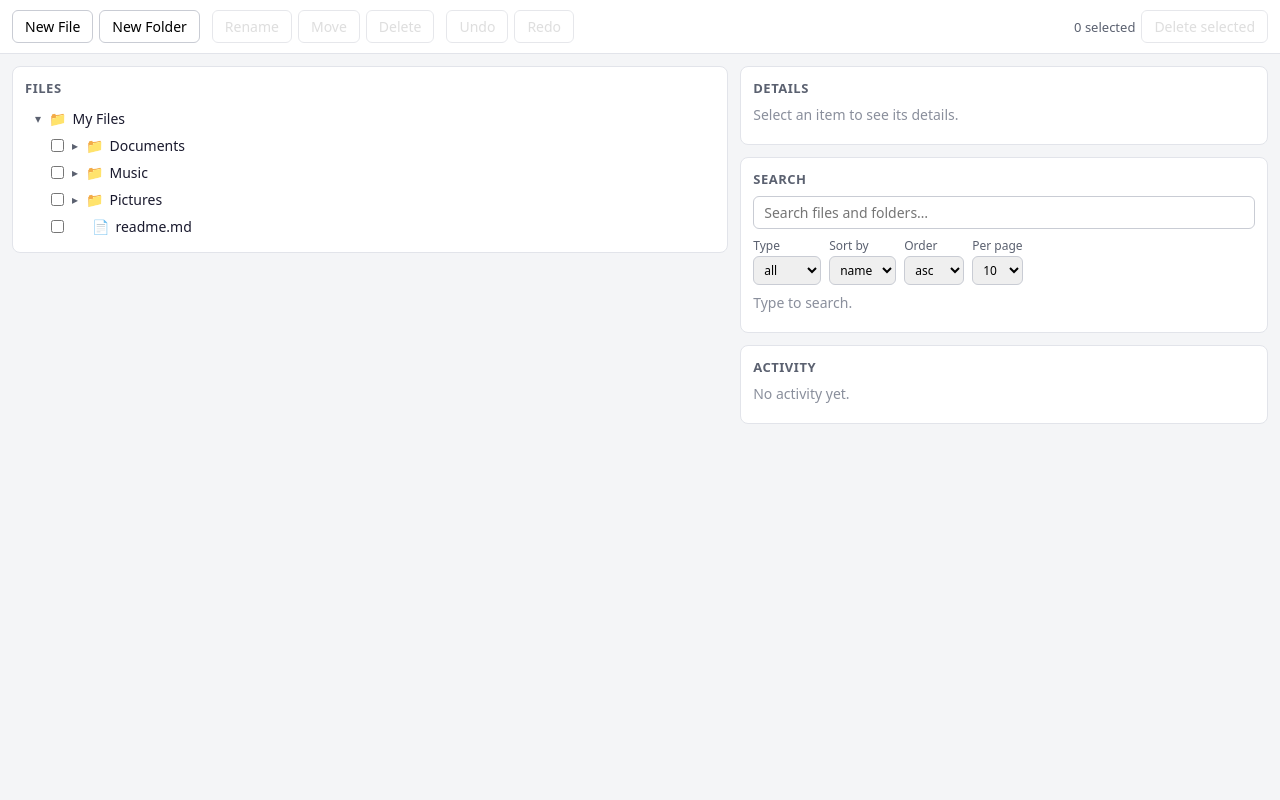
it: selection consistency › clears selection when a parent of the selected item is deleted
This screenshot has width=1280, height=800.
Click the button named "Expand Documents" at (75, 146), box [70,137,80,154]
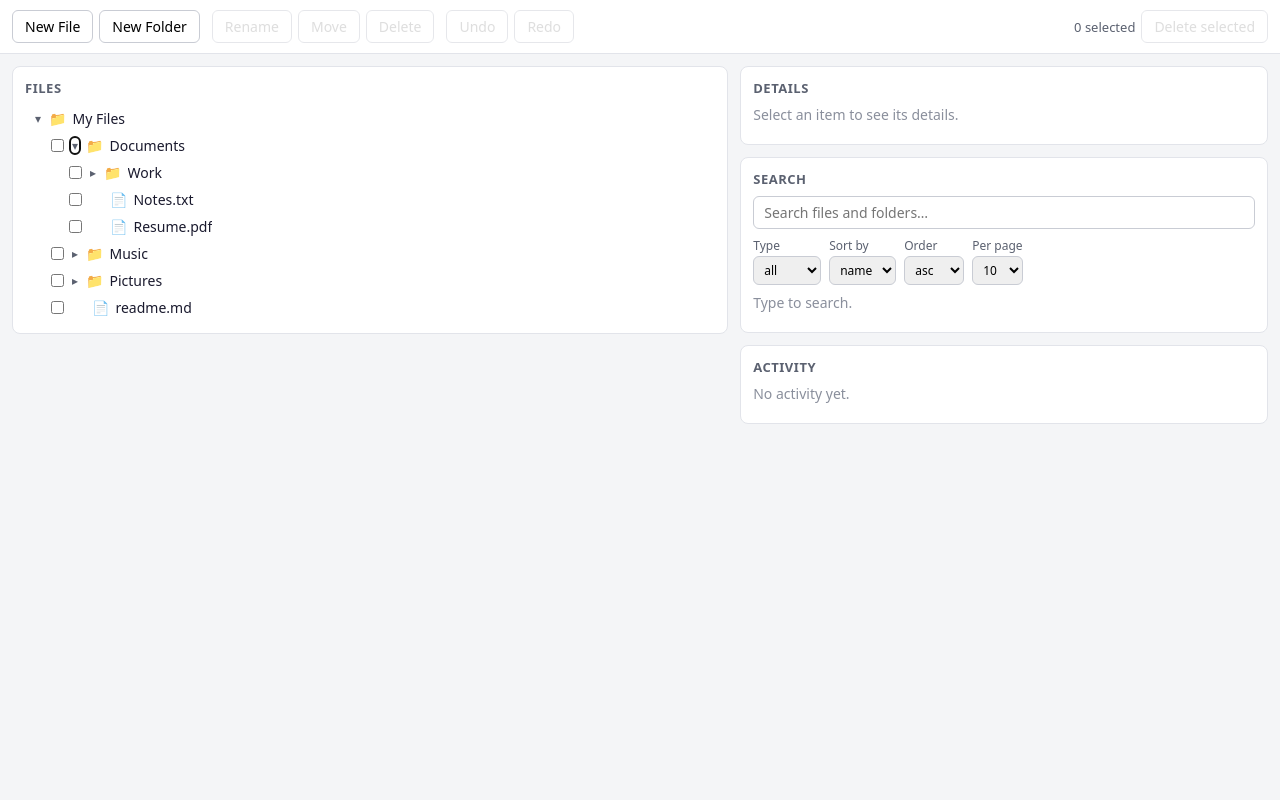
Click the text "Resume.pdf" at (173, 226), box [134,217,212,236]
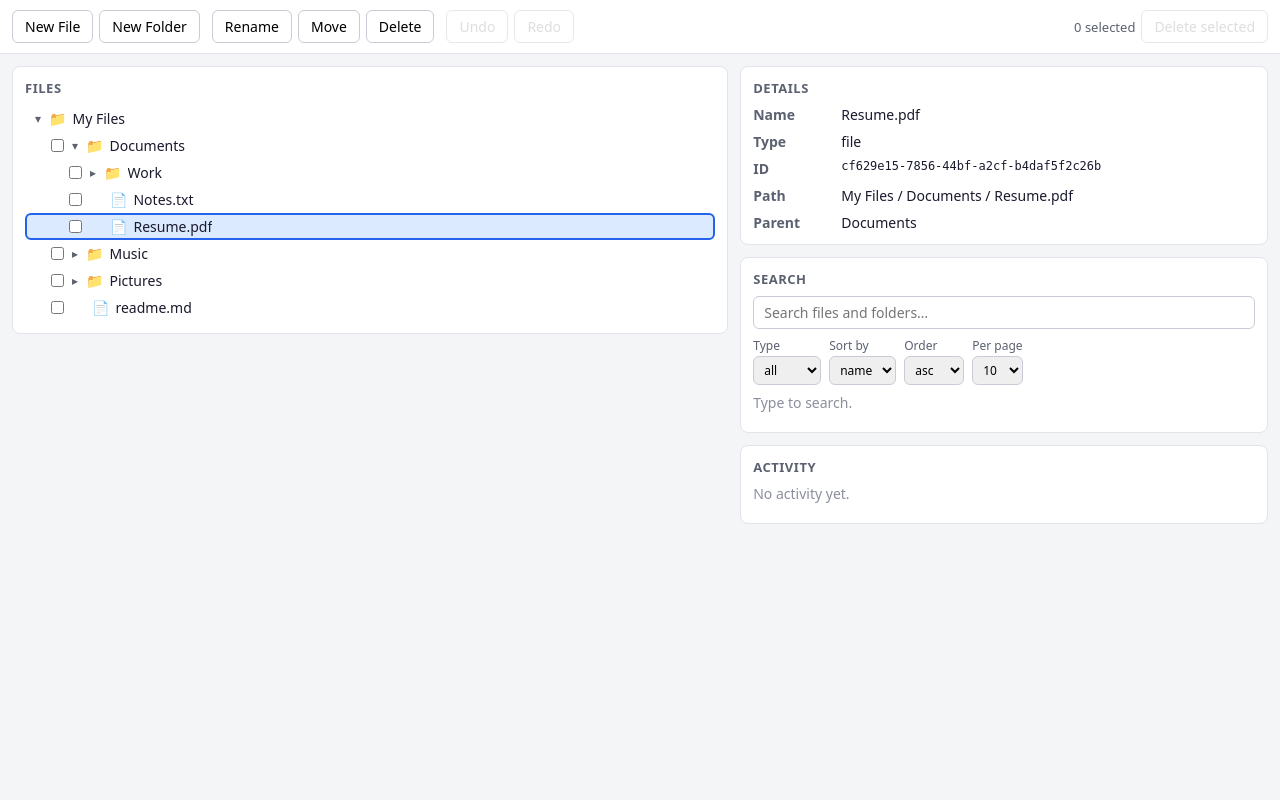
Expected: the text with test id "details-name" reads "Resume.pdf", [841,105,920,124]
// delete Documents (parent of Resume.pdf)
Click the 1st text "Documents" at (147, 146), box [110,136,185,155]
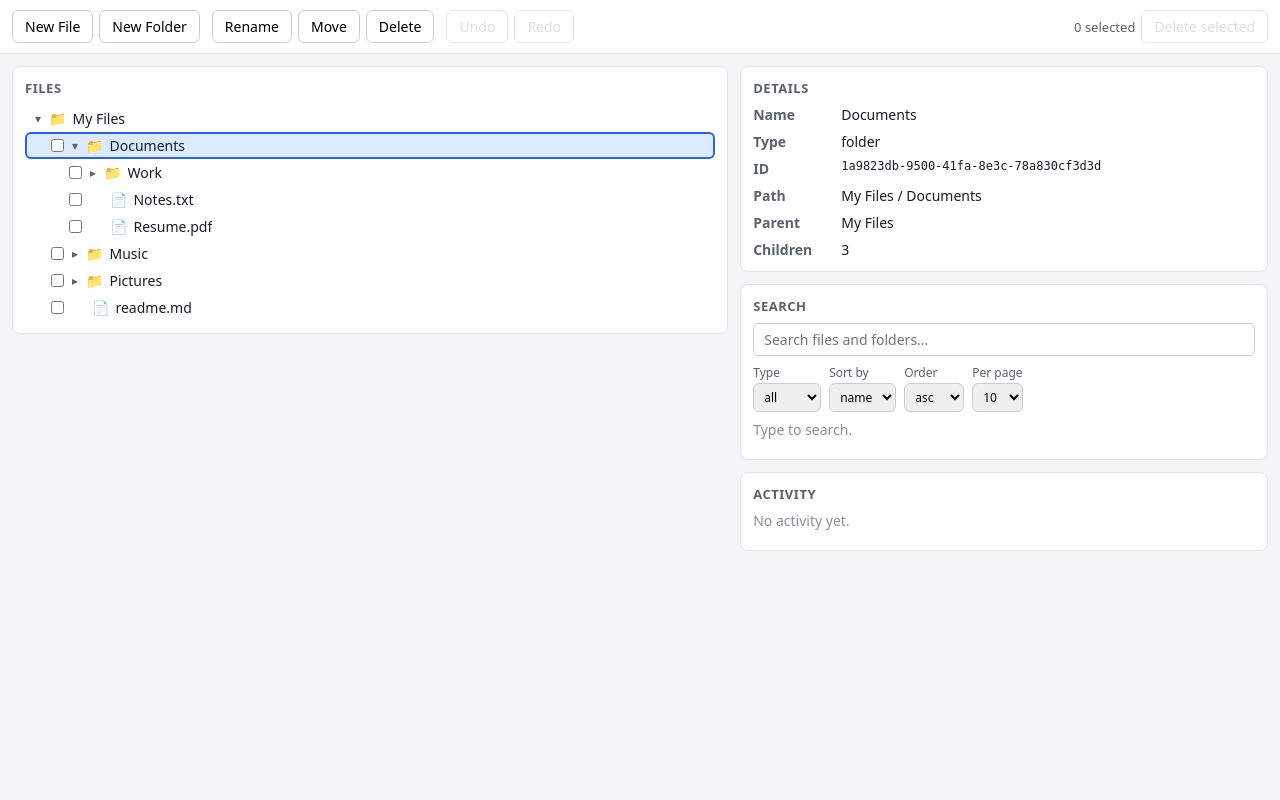
Click the button with test id "delete" at (400, 26), box [366,10,434,43]
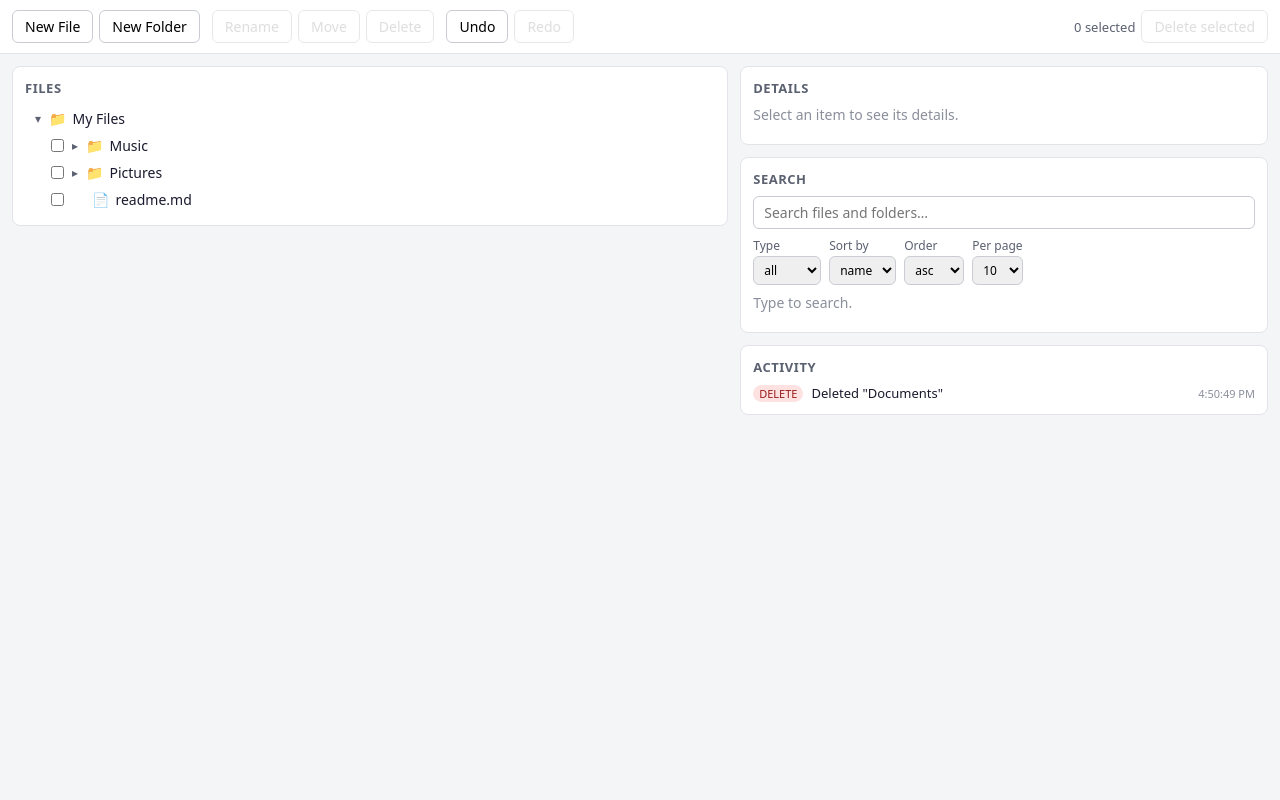
Expected: the text "Select an item to see its details." is shown, [753,105,959,124]
